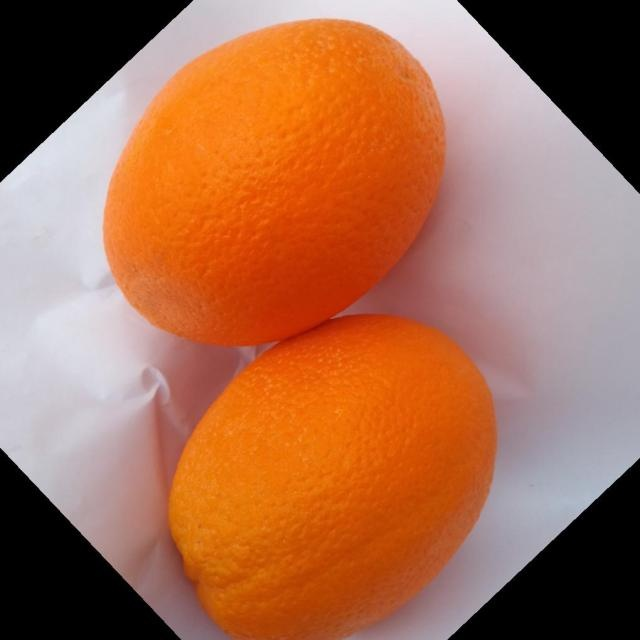agrume: (101, 16, 447, 347), (166, 312, 498, 638)
